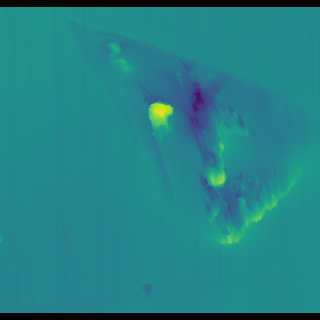Loch: (95, 40, 300, 251)
